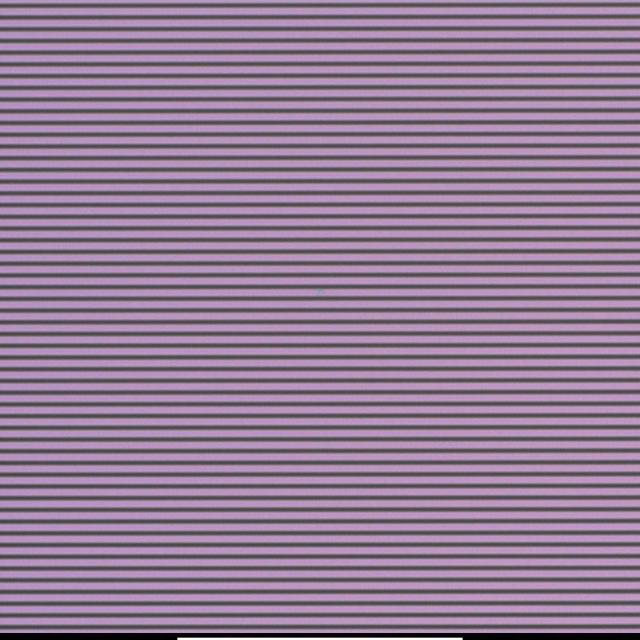nonvisual: (314, 284, 327, 298)
